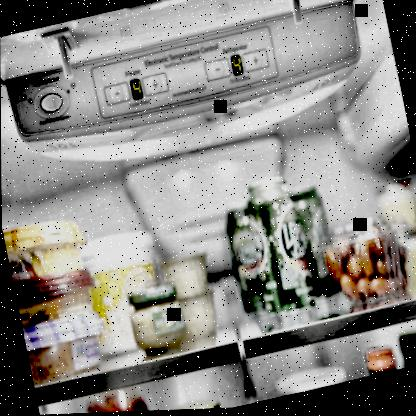tomato: (325, 248, 347, 283), (339, 275, 359, 305), (358, 252, 376, 280), (355, 278, 374, 302), (370, 275, 389, 297), (367, 238, 383, 261), (346, 258, 362, 280)
